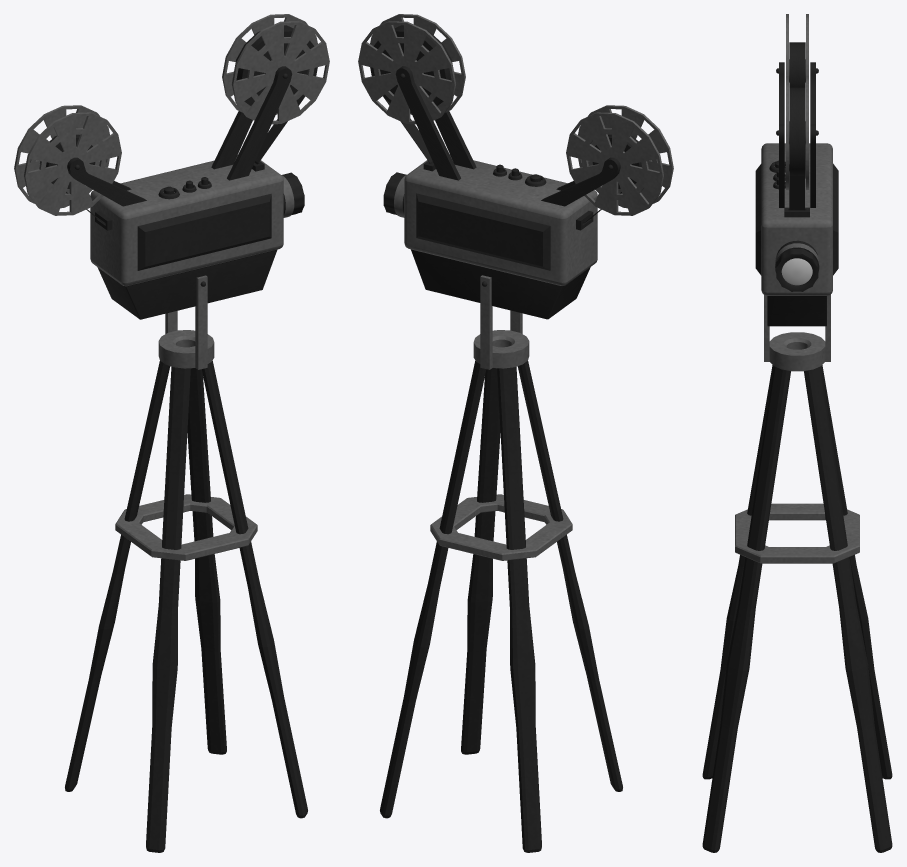
The model's file is projector_1.obj.
3 views of the same model, side by side, from view 1: azimuth 30°, elevation 25°; view 2: azimuth 150°, elevation 25°; view 3: azimuth 270°, elevation 25° (orthographic).
Visible parts, largest first — view 1: projector_1, projector_1_body, projector_wheel_rear, projector_wheel_front; view 2: projector_1, projector_1_body, projector_wheel_rear, projector_wheel_front; view 3: projector_1, projector_1_body, projector_wheel_front, projector_wheel_rear.
Boxes of the visible parts, left/top/right/bottom form: projector_1: left=65, top=275, right=307, bottom=852; projector_1_body: left=66, top=66, right=305, bottom=319; projector_wheel_rear: left=14, top=105, right=121, bottom=215; projector_wheel_front: left=222, top=14, right=329, bottom=124; projector_1: left=380, top=275, right=622, bottom=852; projector_1_body: left=383, top=66, right=621, bottom=319; projector_wheel_rear: left=566, top=105, right=673, bottom=215; projector_wheel_front: left=358, top=14, right=465, bottom=124; projector_1: left=702, top=294, right=892, bottom=852; projector_1_body: left=755, top=62, right=838, bottom=326; projector_wheel_front: left=786, top=76, right=808, bottom=189; projector_wheel_rear: left=786, top=14, right=808, bottom=87.
Bounding box in the file's own units: 0.63 × 1.51 × 0.3337.
